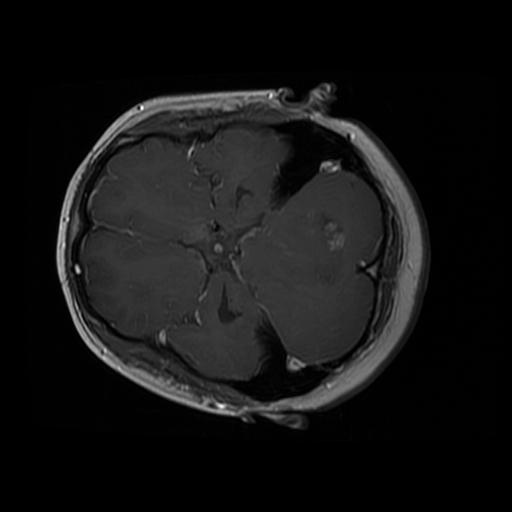glioma: (244, 212, 337, 284)
